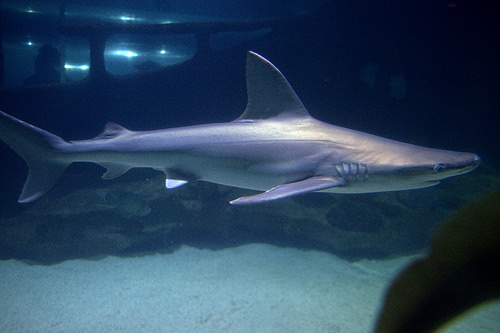shark: (8, 35, 487, 226)
